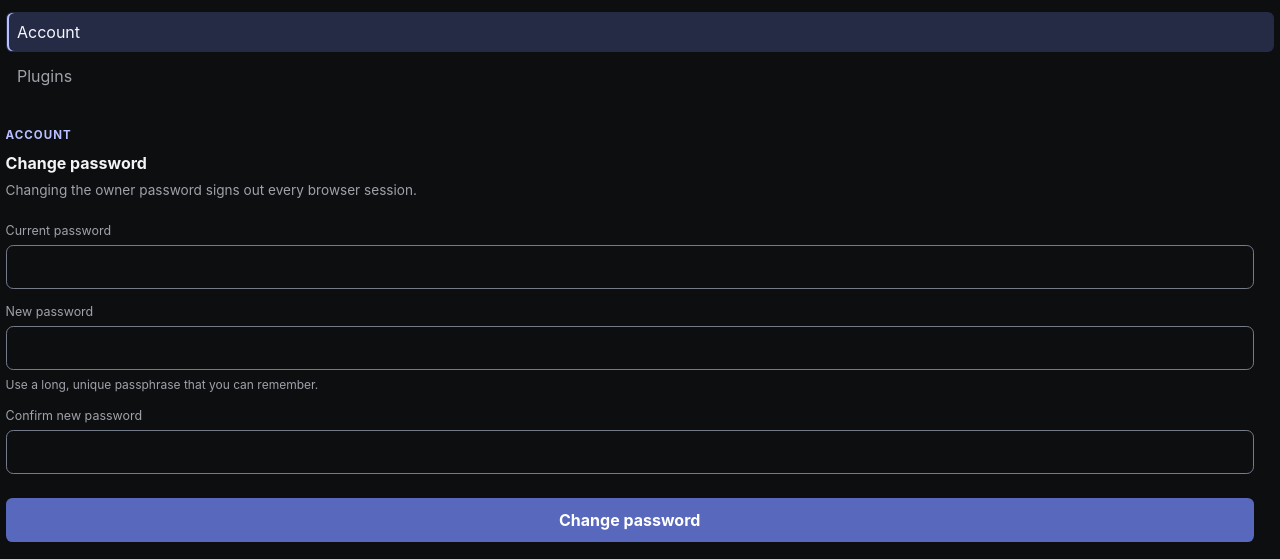
Test: owner Settings › GMD-003/S1 presents inventory, status, permissions, and active contributions
Click the tab "Plugins". click: (45, 76)
box: [6,56,1274,96]
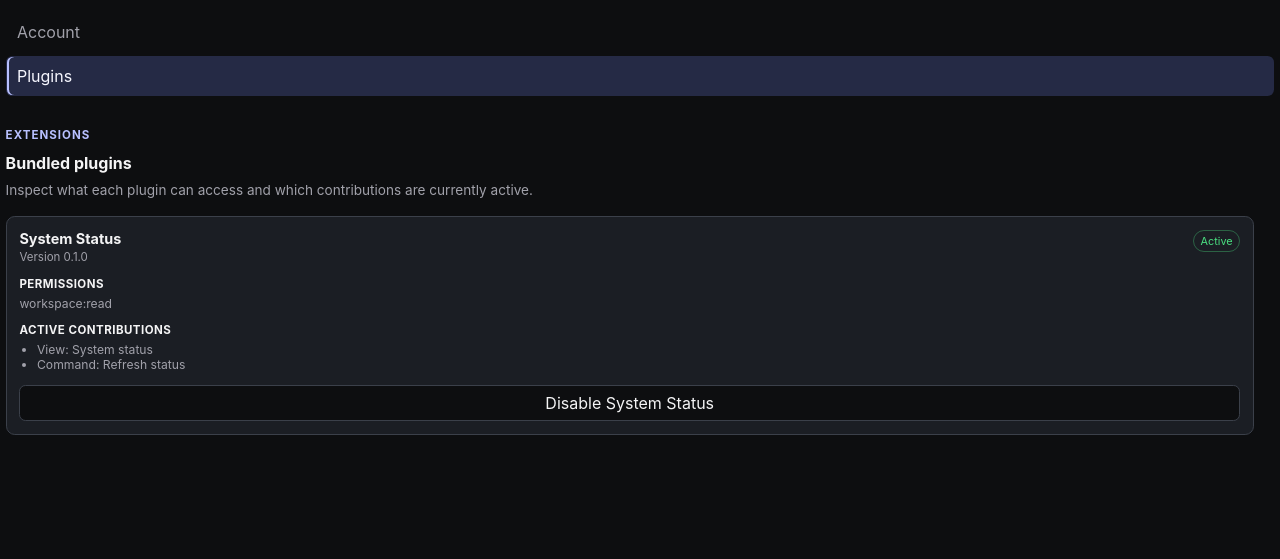
Expected: the text "Active" is shown, [1193,230,1240,252]
Expected: the text "workspace:read" is shown, [19,296,112,310]
Expected: the list item "View: System status" is shown, [37,342,153,357]
